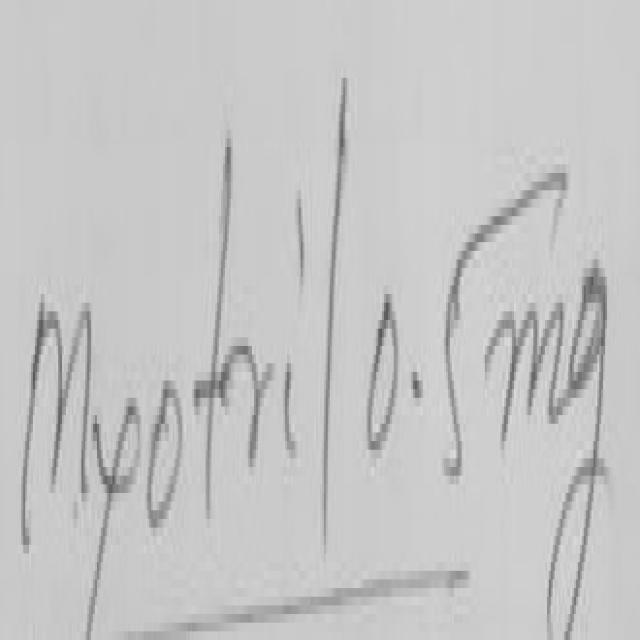0: (367, 297, 400, 461)
5: (441, 166, 563, 485)
M: (21, 283, 93, 540)
g: (546, 257, 608, 640)
i: (284, 362, 298, 471), (299, 208, 305, 293)
l: (322, 78, 348, 566)
m: (483, 296, 569, 454)
o: (147, 385, 184, 537)
r: (226, 335, 275, 471)
t: (192, 142, 233, 534)
y: (86, 402, 139, 638)
